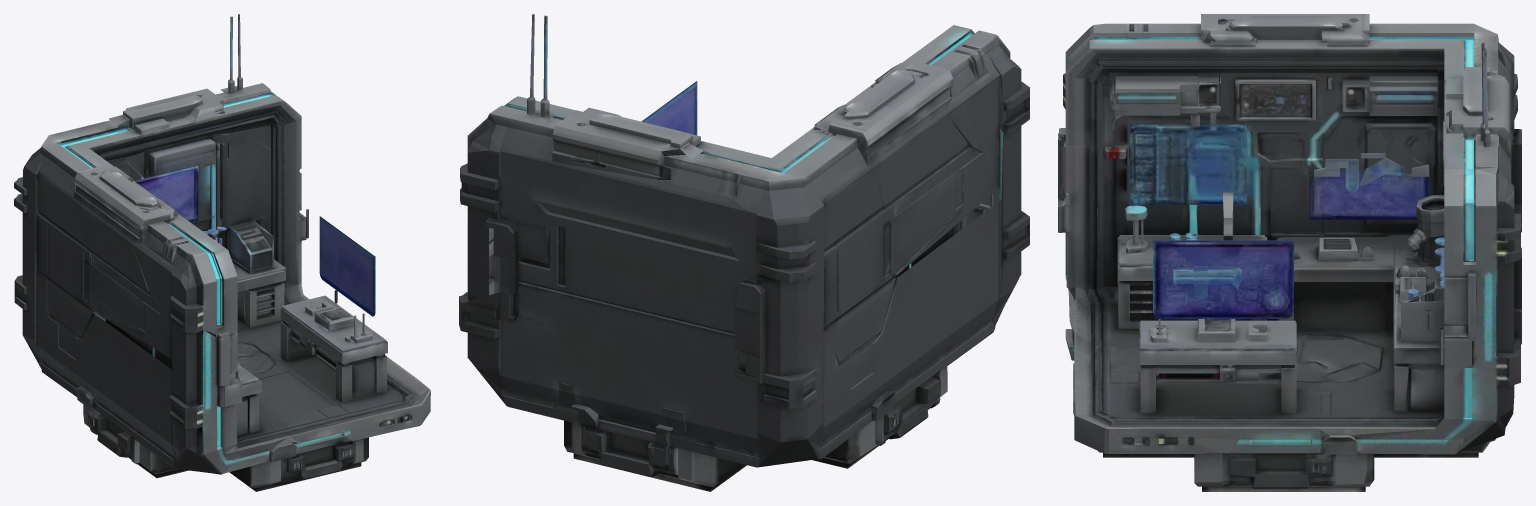
The model's file is research_module_LOD0.glb.
3 views of the same model, side by side, from view 1: azimuth 30°, elevation 25°; view 2: azimuth 150°, elevation 25°; view 3: azimuth 270°, elevation 25° (orthographic). The views are drawn at different scales.
Visible parts, largest first — view 1: research_module_LOD0; view 2: research_module_LOD0; view 3: research_module_LOD0.
Boxes of the visible parts, x1,y1,x2,y2 form: research_module_LOD0: [14, 14, 430, 491]; research_module_LOD0: [459, 14, 1029, 491]; research_module_LOD0: [1058, 14, 1521, 491].
Bounding box in the file's own units: 0.8121 × 0.9609 × 0.9471.
1 material, 1 textured.
